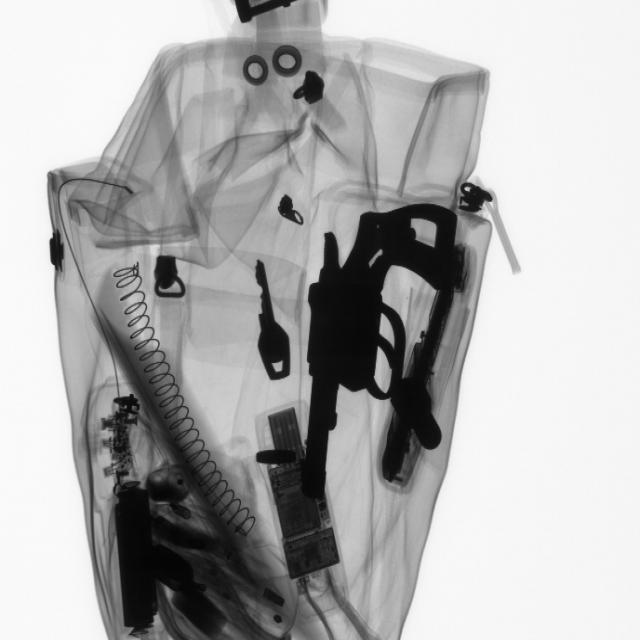GUN: (298, 197, 450, 503)
